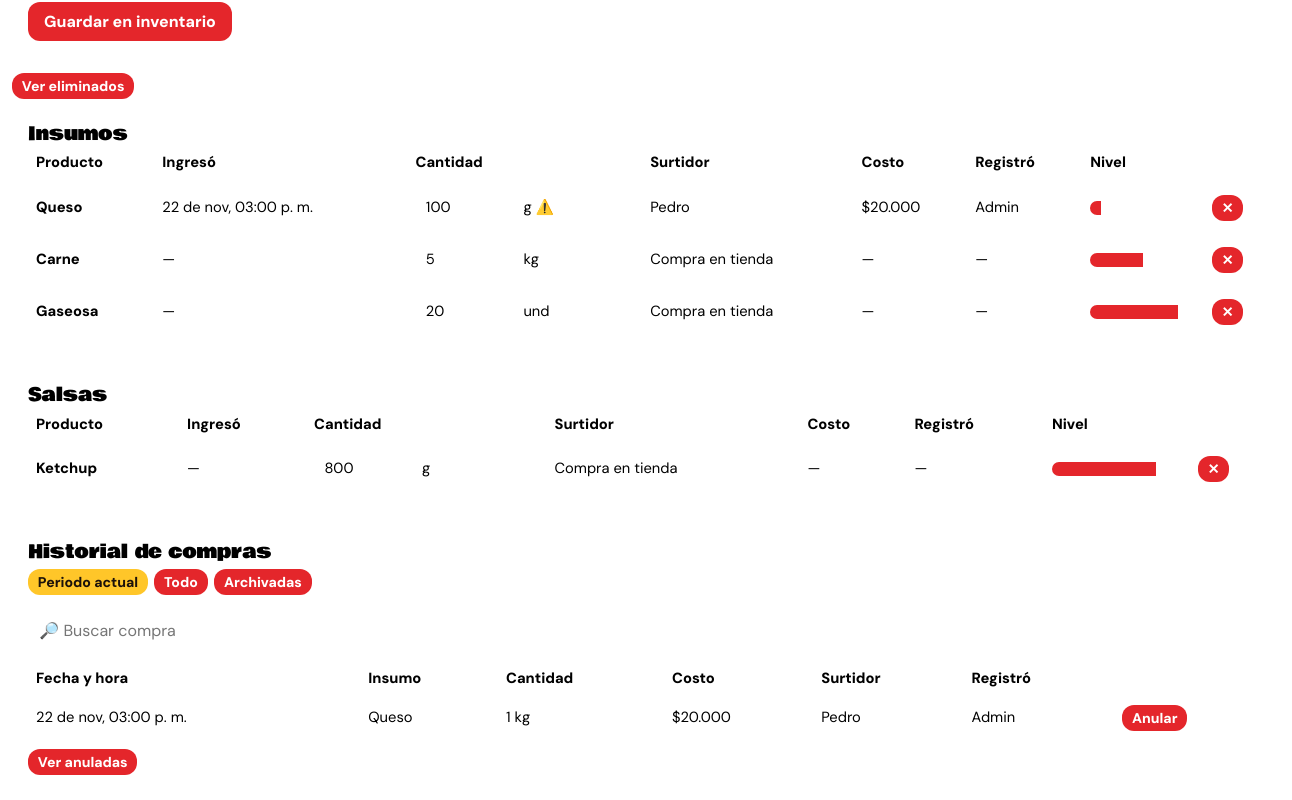
Scenario: Pestaña Inventario › historial de compras con búsqueda
The width and height of the screenshot is (1292, 800).
(page scrolled)
Expected: the text "1 kg" is shown, top-left (498, 697), bottom-right (664, 739)
In the field with placeholder "🔎 Buscar compra": (652, 631) top-left (28, 611), bottom-right (1276, 650), type "zzz"
(page scrolled)
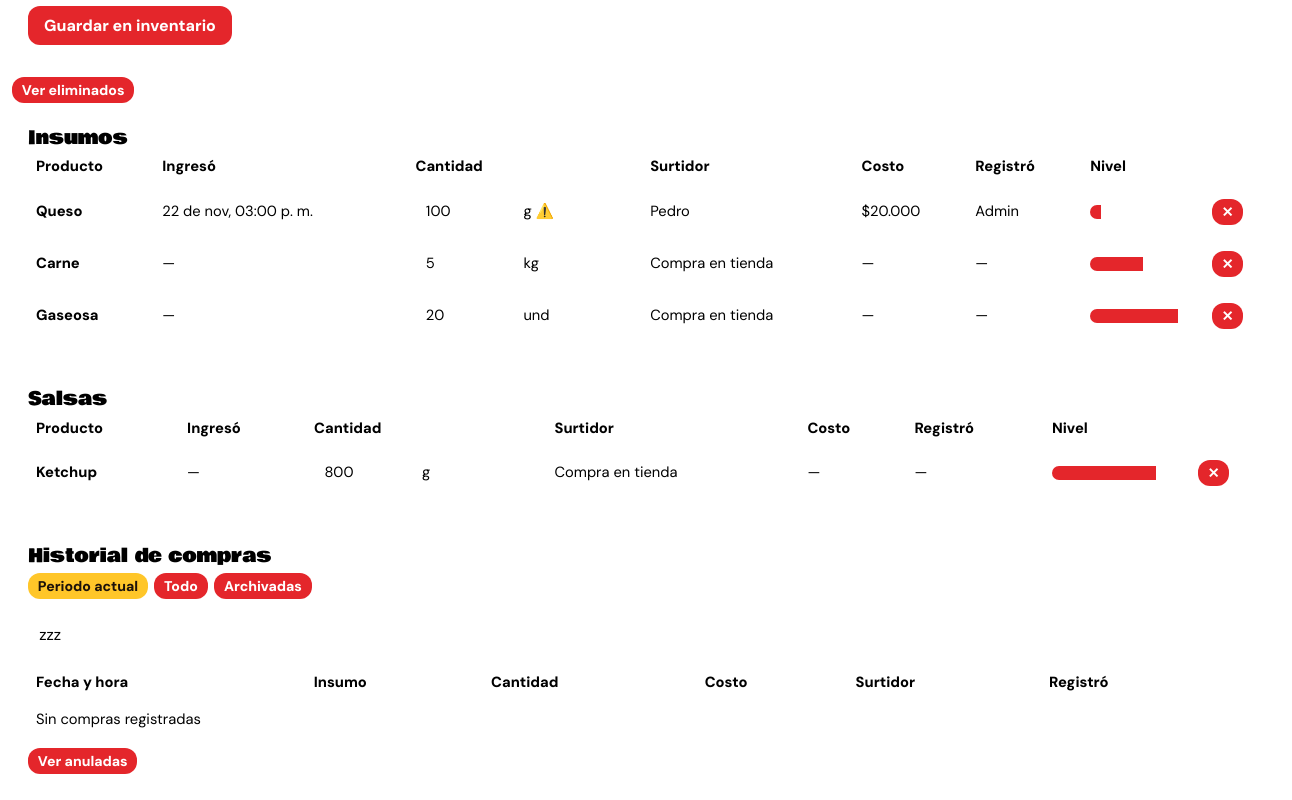
Now the text "Sin compras registradas" is shown, box top-left (28, 701), bottom-right (1276, 738)
